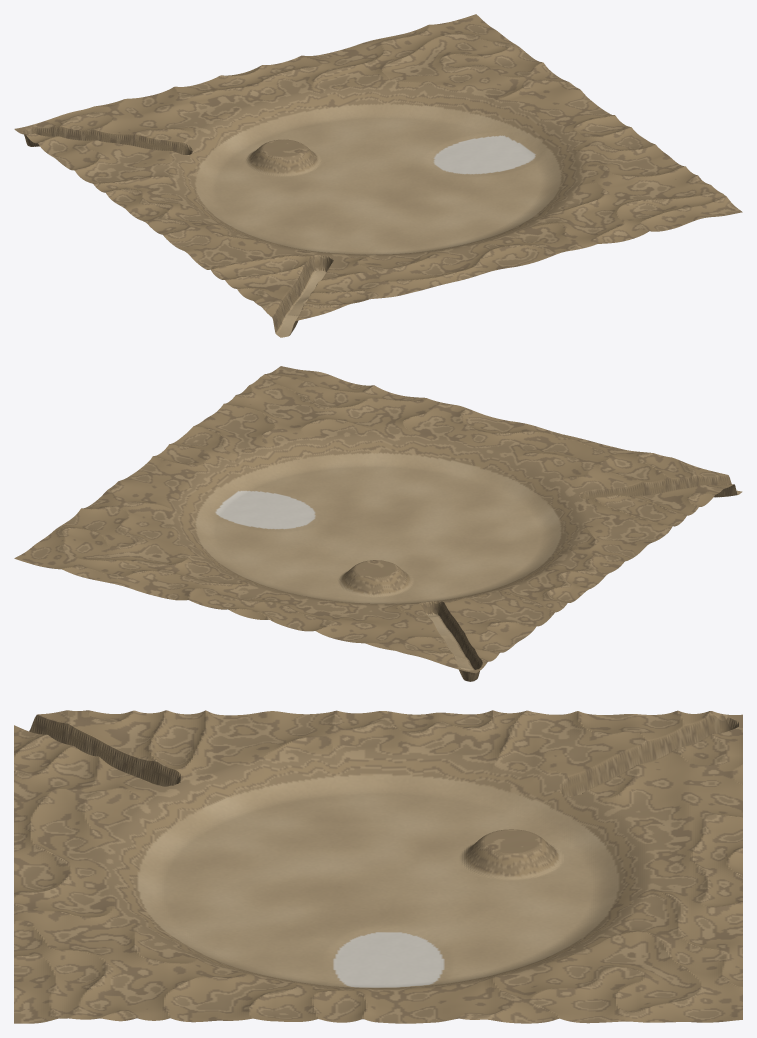
Rendered from terrain.glb.
The picture shows the model from 3 angles, top to bottom: view 1: azimuth 30°, elevation 25°; view 2: azimuth 150°, elevation 25°; view 3: azimuth 270°, elevation 25°; orthographic projection. The views are drawn at different scales.
Visible parts, largest first — view 1: Terrain_1_1, Terrain_0_1, Terrain_1_0, Terrain_-1_0, Terrain_-2_1, Terrain_2_0, Terrain_-1_1, Terrain_1_-1, Terrain_0_2, Terrain_-1_2, Terrain_0_0, Terrain_-1_-1 (+24 smaller); view 2: Terrain_1_-2, Terrain_0_-2, Terrain_-1_-2, Terrain_1_-1, Terrain_-2_-2, Terrain_2_-1, Terrain_0_-3, Terrain_1_0, Terrain_0_-1, Terrain_-1_-1, Terrain_-1_-3, Terrain_0_0 (+24 smaller); view 3: Terrain_-2_-2, Terrain_-2_1, Terrain_-2_-1, Terrain_-2_0, Terrain_-3_-1, Terrain_-3_0, Terrain_-1_1, Terrain_-1_-2, Terrain_0_0, Terrain_-1_0, Terrain_0_-1, Terrain_-1_-1 (+24 smaller).
Part boxes in pixels (x1=…): Terrain_1_1: x1=366, y1=62, x2=490, y2=131; Terrain_0_1: x1=287, y1=85, x2=411, y2=151; Terrain_1_0: x1=412, y1=99, x2=536, y2=165; Terrain_-1_0: x1=254, y1=146, x2=377, y2=204; Terrain_-2_1: x1=137, y1=123, x2=252, y2=180; Terrain_2_0: x1=491, y1=80, x2=608, y2=141; Terrain_-1_1: x1=208, y1=109, x2=332, y2=170; Terrain_1_-1: x1=458, y1=142, x2=582, y2=198; Terrain_0_2: x1=245, y1=54, x2=365, y2=109; Terrain_-1_2: x1=166, y1=72, x2=286, y2=123; Terrain_0_0: x1=333, y1=132, x2=457, y2=184; Terrain_-1_-1: x1=300, y1=185, x2=423, y2=237; Terrain_1_-2: x1=266, y1=413, x2=390, y2=481; Terrain_0_-2: x1=345, y1=434, x2=469, y2=500; Terrain_-1_-2: x1=424, y1=458, x2=548, y2=519; Terrain_1_-1: x1=220, y1=447, x2=344, y2=514; Terrain_-2_-2: x1=504, y1=472, x2=618, y2=529; Terrain_2_-1: x1=147, y1=426, x2=265, y2=490; Terrain_0_-3: x1=391, y1=400, x2=511, y2=458; Terrain_1_0: x1=175, y1=491, x2=298, y2=548; Terrain_0_-1: x1=299, y1=481, x2=423, y2=533; Terrain_-1_-1: x1=379, y1=501, x2=502, y2=553; Terrain_-1_-3: x1=470, y1=421, x2=590, y2=471; Terrain_0_0: x1=254, y1=515, x2=377, y2=567; Terrain_-2_-2: x1=128, y1=759, x2=253, y2=835; Terrain_-2_1: x1=503, y1=761, x2=628, y2=836; Terrain_-2_-1: x1=253, y1=764, x2=378, y2=836; Terrain_-2_0: x1=378, y1=764, x2=503, y2=836; Terrain_-3_-1: x1=253, y1=710, x2=378, y2=776; Terrain_-3_0: x1=378, y1=710, x2=503, y2=776; Terrain_-1_1: x1=503, y1=817, x2=628, y2=888; Terrain_-1_-2: x1=128, y1=816, x2=253, y2=889; Terrain_0_0: x1=378, y1=888, x2=503, y2=942; Terrain_-1_0: x1=378, y1=830, x2=503, y2=888; Terrain_0_-1: x1=253, y1=889, x2=378, y2=942; Terrain_-1_-1: x1=253, y1=836, x2=378, y2=888.
Size of the model in its own units: 700 by 27.36 by 700.
